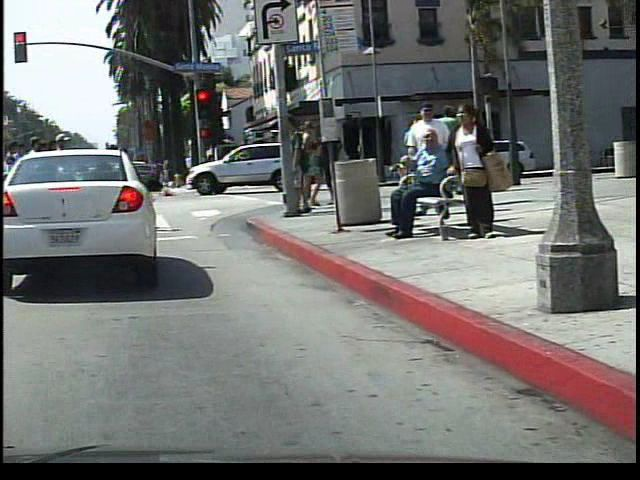person: (440, 100, 501, 238), (383, 131, 454, 245), (293, 118, 335, 209), (192, 147, 218, 198)
